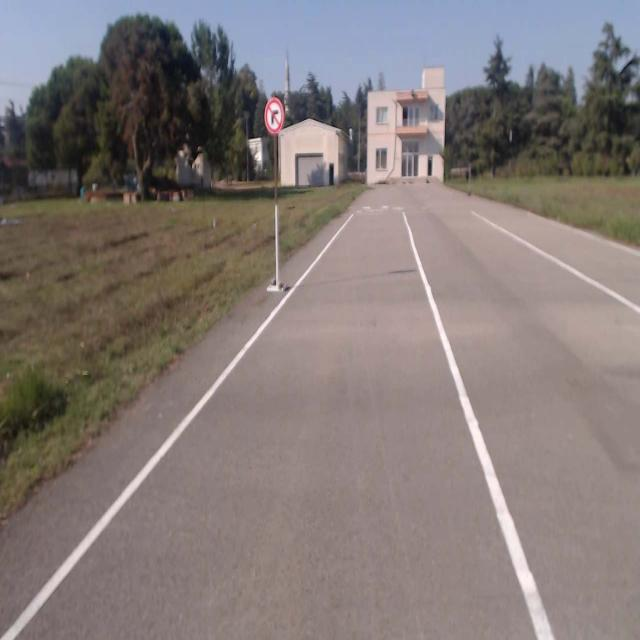sagadonulmez: (264, 97, 282, 131)
